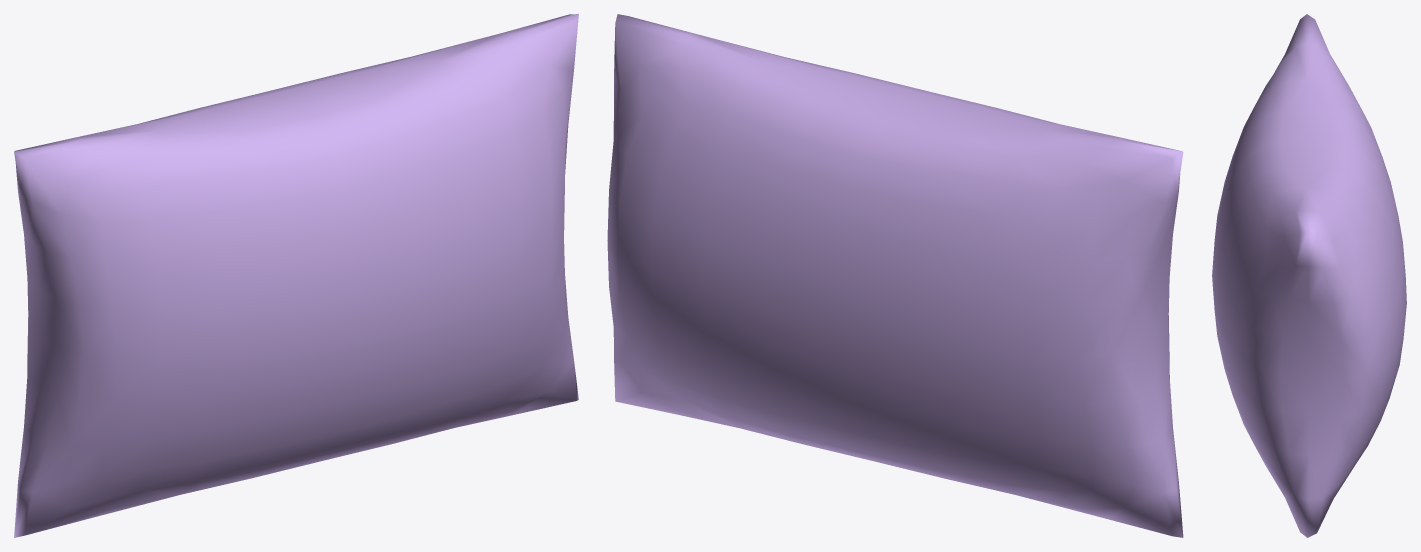
File: Pillow_11.glb
3 views of the same model, side by side, from view 1: azimuth 30°, elevation 25°; view 2: azimuth 150°, elevation 25°; view 3: azimuth 270°, elevation 25° (orthographic). The views are drawn at different scales.
Parts seen in each view (by area): view 1: Pillow_11; view 2: Pillow_11; view 3: Pillow_11.
Boxes of the visible parts, x1,y1,x2,y2 form: Pillow_11: (14, 14, 578, 537); Pillow_11: (607, 14, 1183, 537); Pillow_11: (1212, 14, 1406, 537).
Size of the model in its own units: 0.7383 by 0.4817 by 0.2784.
Materials: 1 (1 with a texture image).
